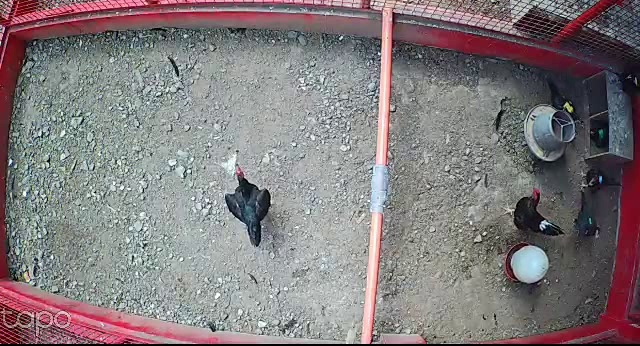Chicken: (217, 159, 278, 246), (544, 74, 582, 127), (572, 190, 602, 240), (574, 165, 621, 192)
Drinker: (503, 242, 548, 287)
Feeder: (523, 103, 577, 163)
Rooster: (502, 187, 567, 241)
Saddle_Color_Blue: (598, 175, 603, 182)
Saddle_Color_Yellow: (562, 100, 574, 113)
